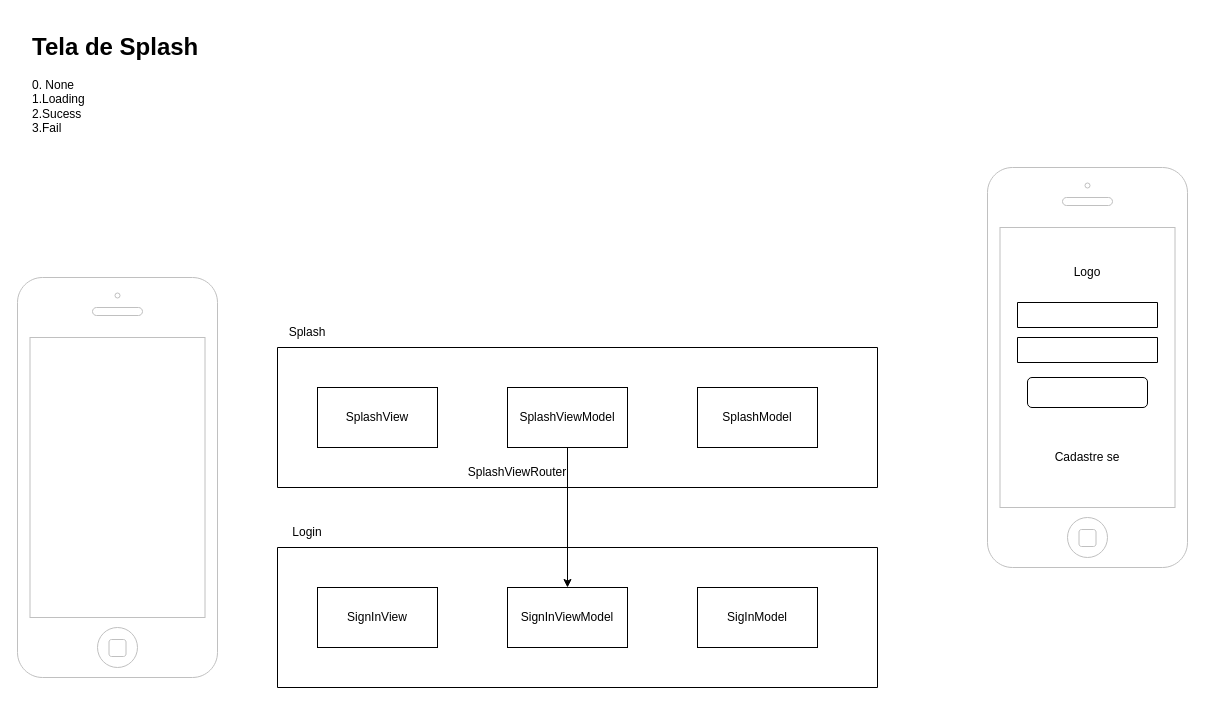
This 1205x705 diagram has some shape labels left out. The shapes that lost their labels are listed below. From the top down, each one's centre as x and y in pixels, then its label:
At point 1087,392: "Entrar".
At point 117,477: "Loading".
